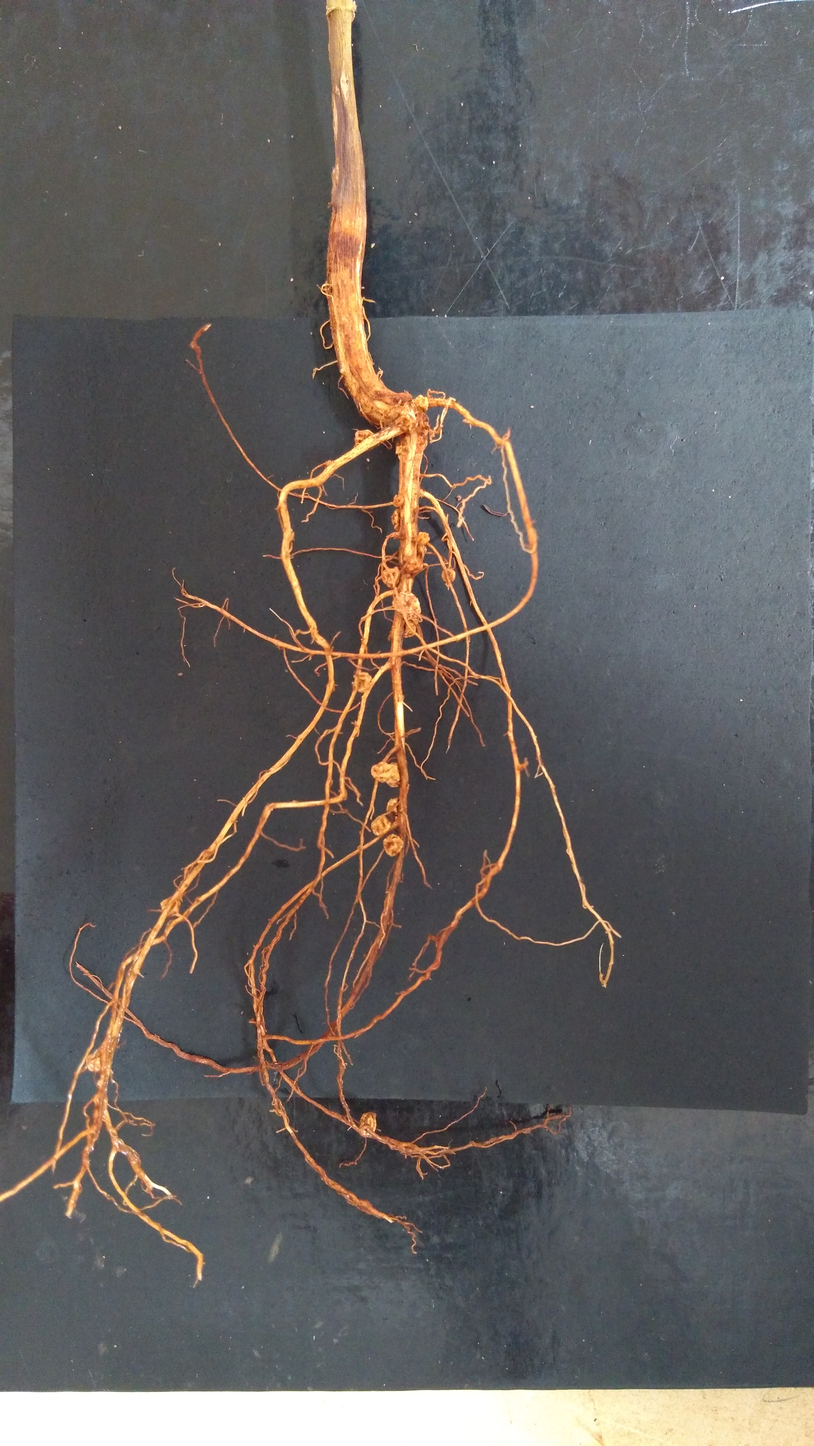nodule: (391, 590, 421, 624), (371, 761, 402, 788), (357, 1111, 379, 1138), (354, 429, 381, 451), (395, 412, 419, 435), (382, 834, 405, 857), (381, 565, 402, 589), (160, 896, 182, 918), (370, 814, 391, 836), (84, 1052, 104, 1074), (403, 555, 424, 575), (354, 671, 373, 693), (385, 797, 401, 819), (402, 617, 417, 638), (390, 508, 402, 533), (412, 394, 429, 411), (441, 567, 456, 584), (415, 531, 430, 544), (394, 444, 410, 456), (392, 494, 405, 507), (324, 681, 337, 693), (416, 543, 428, 555), (92, 1092, 102, 1104), (96, 1078, 104, 1089), (406, 572, 412, 579), (422, 563, 429, 567)
